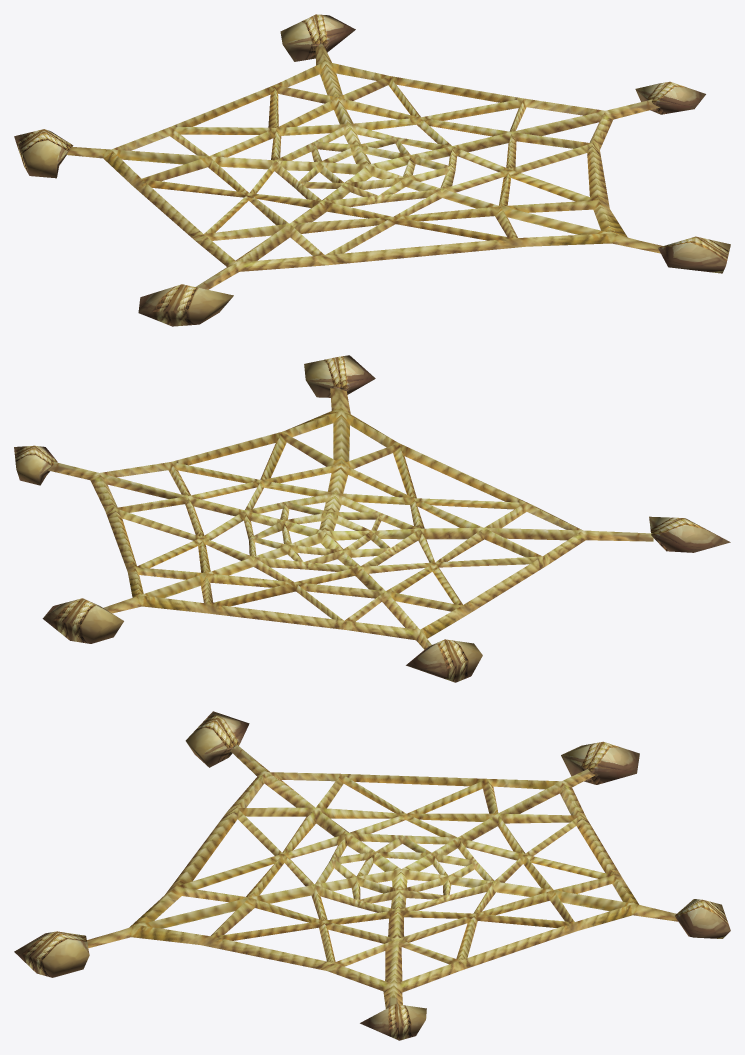
Rendered from nuwang.FBX.
3 renders of one model, top to bottom at view 1: azimuth 30°, elevation 25°; view 2: azimuth 150°, elevation 25°; view 3: azimuth 270°, elevation 25°, orthographic. The views are drawn at different scales.
Parts seen in each view (by area): view 1: objheadusOBJexport; view 2: objheadusOBJexport; view 3: objheadusOBJexport.
Boxes of the visible parts, x1=… form: objheadusOBJexport: x1=14, y1=14, x2=730, y2=326; objheadusOBJexport: x1=14, y1=355, x2=730, y2=682; objheadusOBJexport: x1=14, y1=711, x2=730, y2=1040.
Bounding box in the file's own units: 870 × 47.74 × 823.
